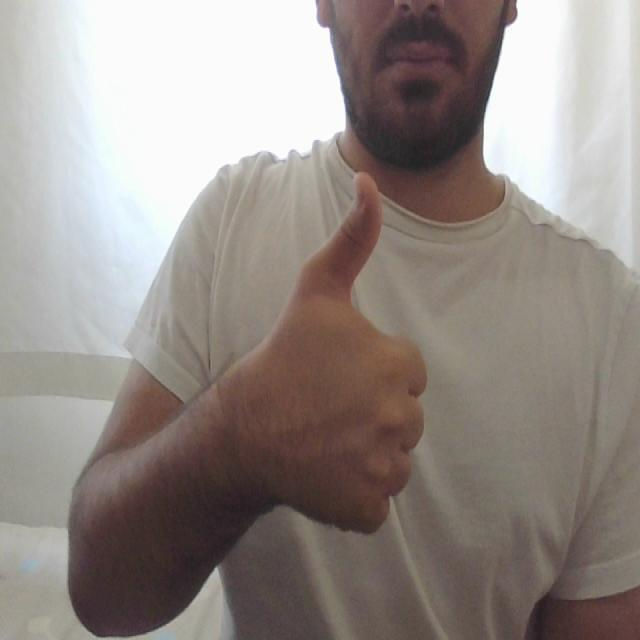Tamam: (237, 161, 432, 541)
